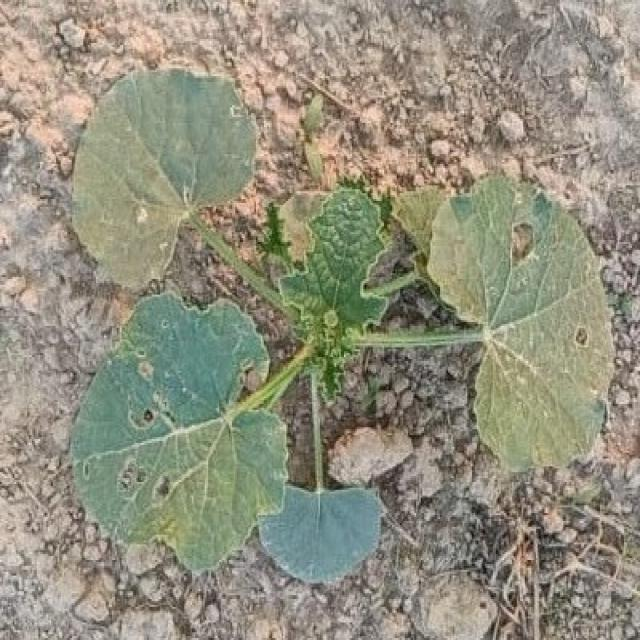plant: (70, 69, 612, 583)
